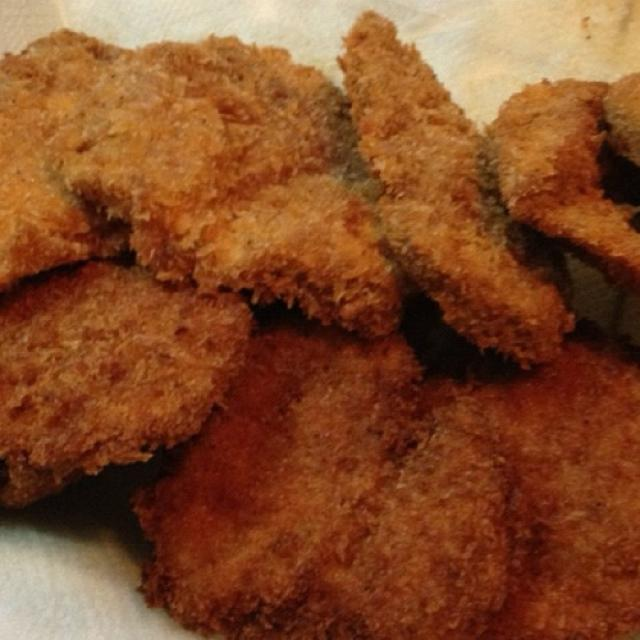牛肉菜式: (5, 13, 627, 626)
